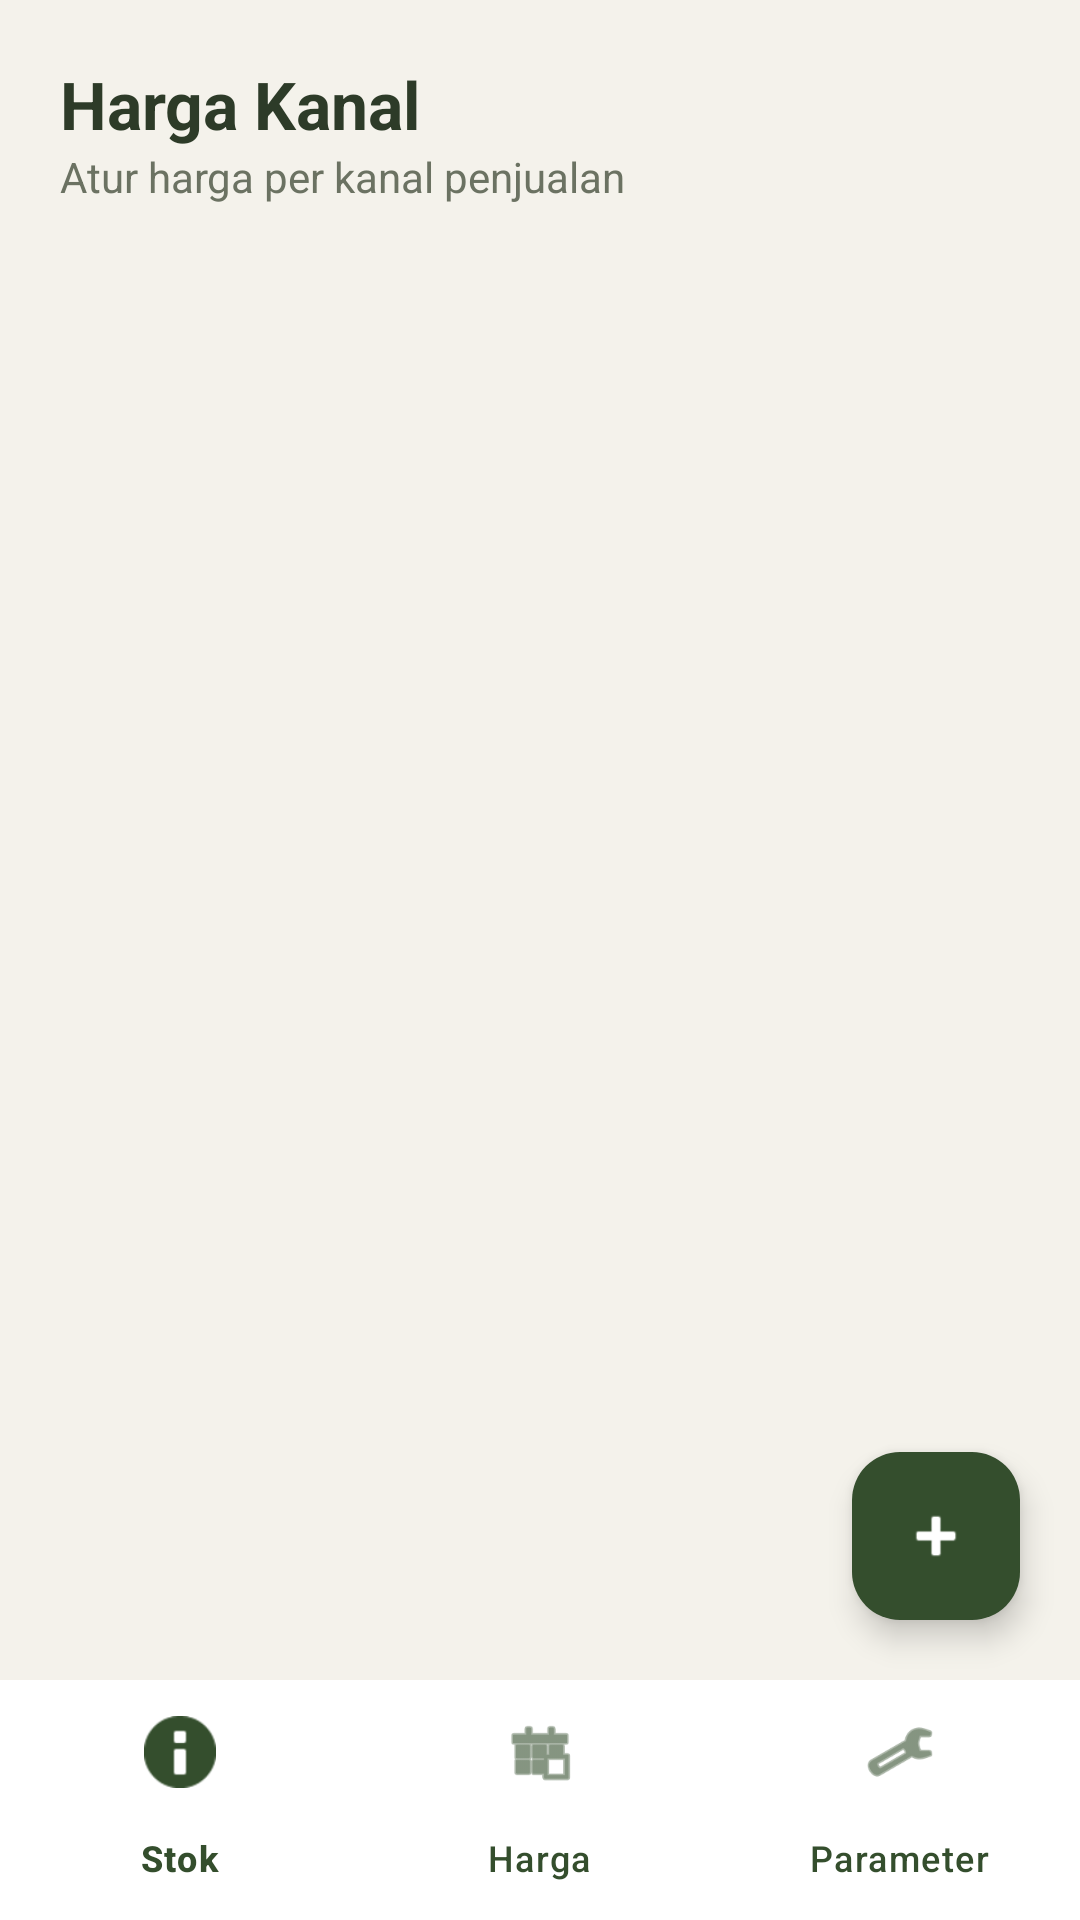

Locate icon controls on the screen. Image size 1080w x 1920h, boxes as [x1=x1, y1=y1, x2=x2, y2=y2].
add: [x1=852, y1=1452, x2=1020, y2=1620]
